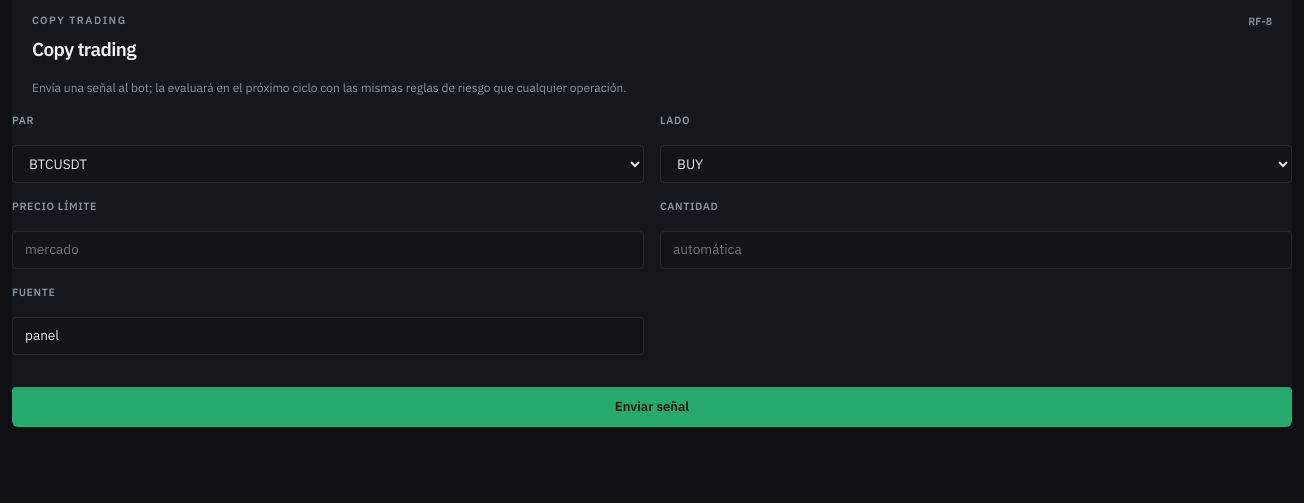
Scenario: ExternalSignalForm › muestra la señal rechazada con su motivo (RF-8)
This screenshot has width=1304, height=503.
What coordinates should you click on to do the following:
click the button "Enviar señal"
I would click on:
 (652, 406)
Its box is left=12, top=386, right=1292, bottom=426.
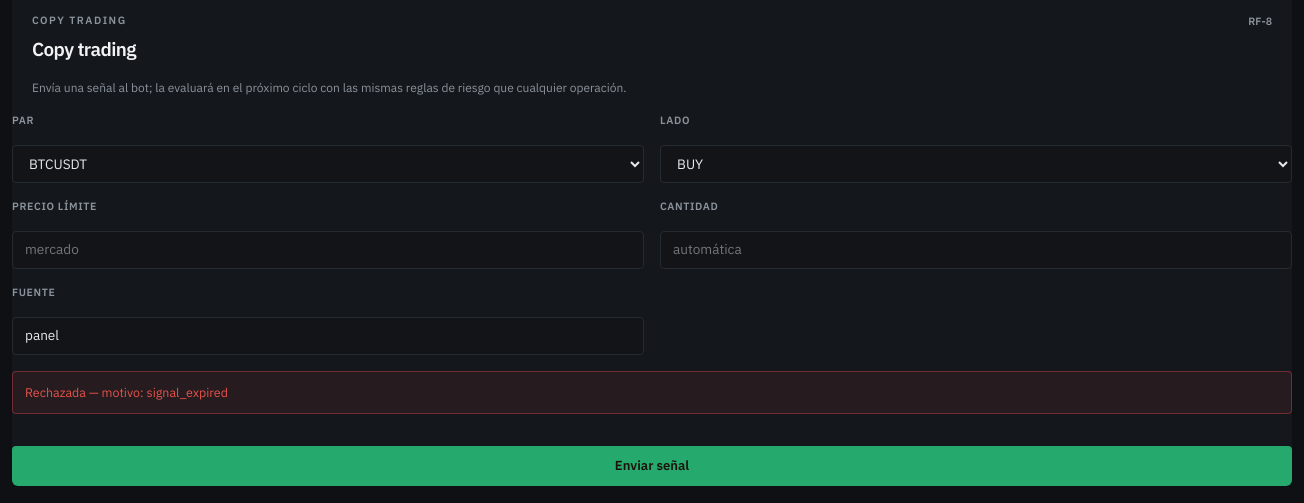
Now the text with test id "signal-result" shows "Rechazada", box left=25, top=384, right=228, bottom=400
Now the text with test id "signal-result" shows "signal_expired", box left=25, top=384, right=228, bottom=400
